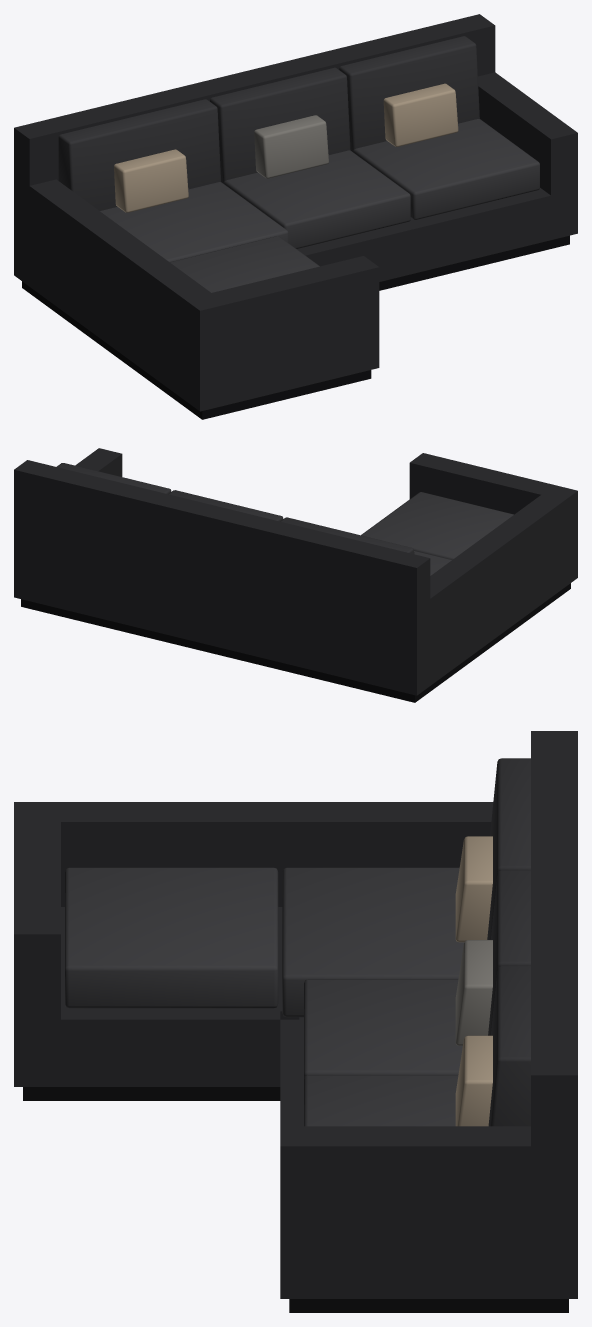
3 renders of one model, top to bottom at view 1: azimuth 30°, elevation 25°; view 2: azimuth 150°, elevation 25°; view 3: azimuth 270°, elevation 25°, orthographic. The views are drawn at different scales.
Parts seen in each view (by area): view 1: F003; view 2: F003; view 3: F003.
Boxes of the visible parts, x1,y1,x2,y2 form: F003: (14, 14, 577, 419); F003: (14, 448, 577, 702); F003: (14, 731, 577, 1312).
Size of the model in its own units: 2.64 by 0.8636 by 1.83.
